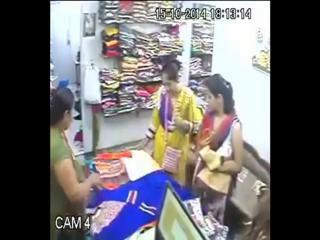Normal: (188, 73, 244, 227), (50, 87, 106, 239)
